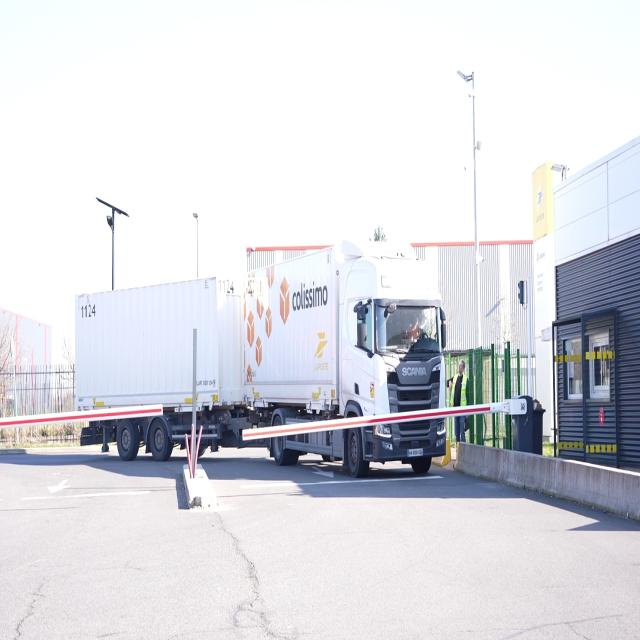Code: (76, 296, 100, 326), (213, 274, 238, 298)
